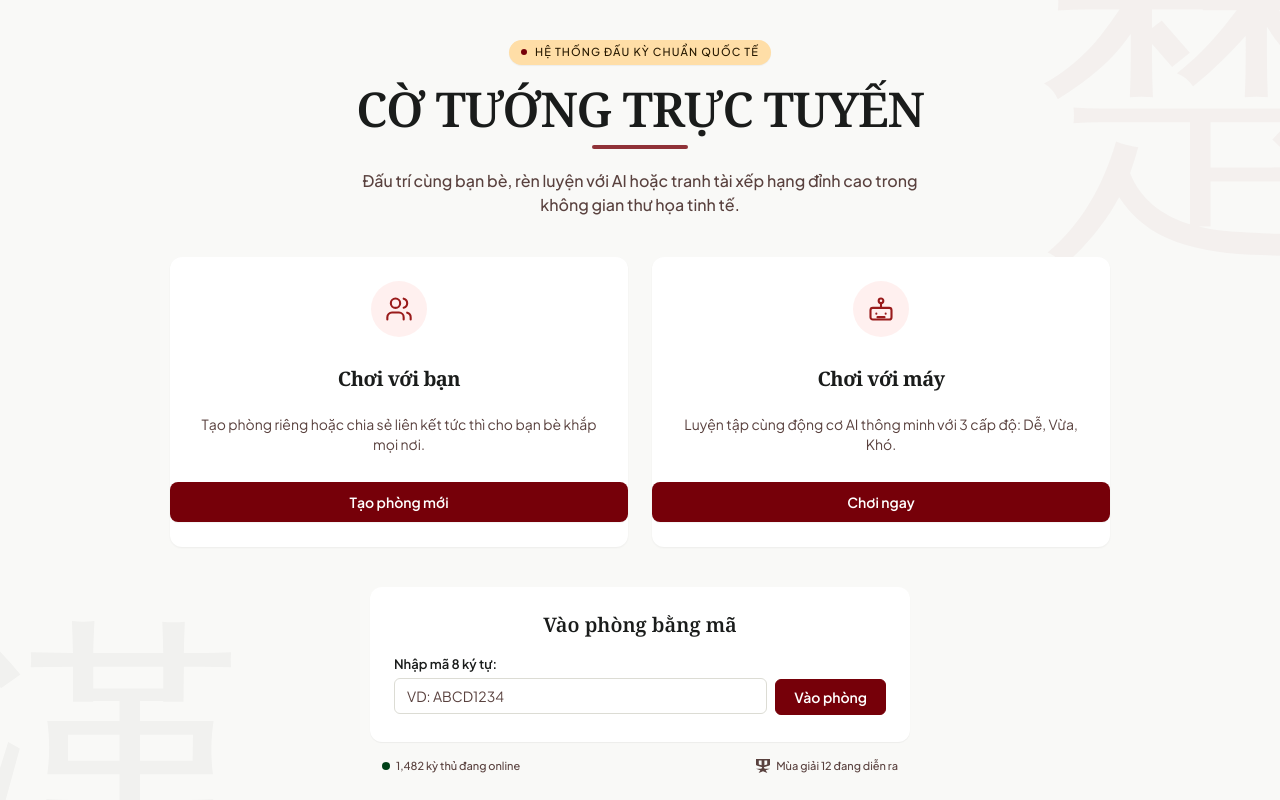
Test: HomePage › shows the join error for ABCDEFGH next to the field
In the field named "Vào phòng bằng mã": [581, 696] box [394,678,767,714], type "ABCDEFGH"
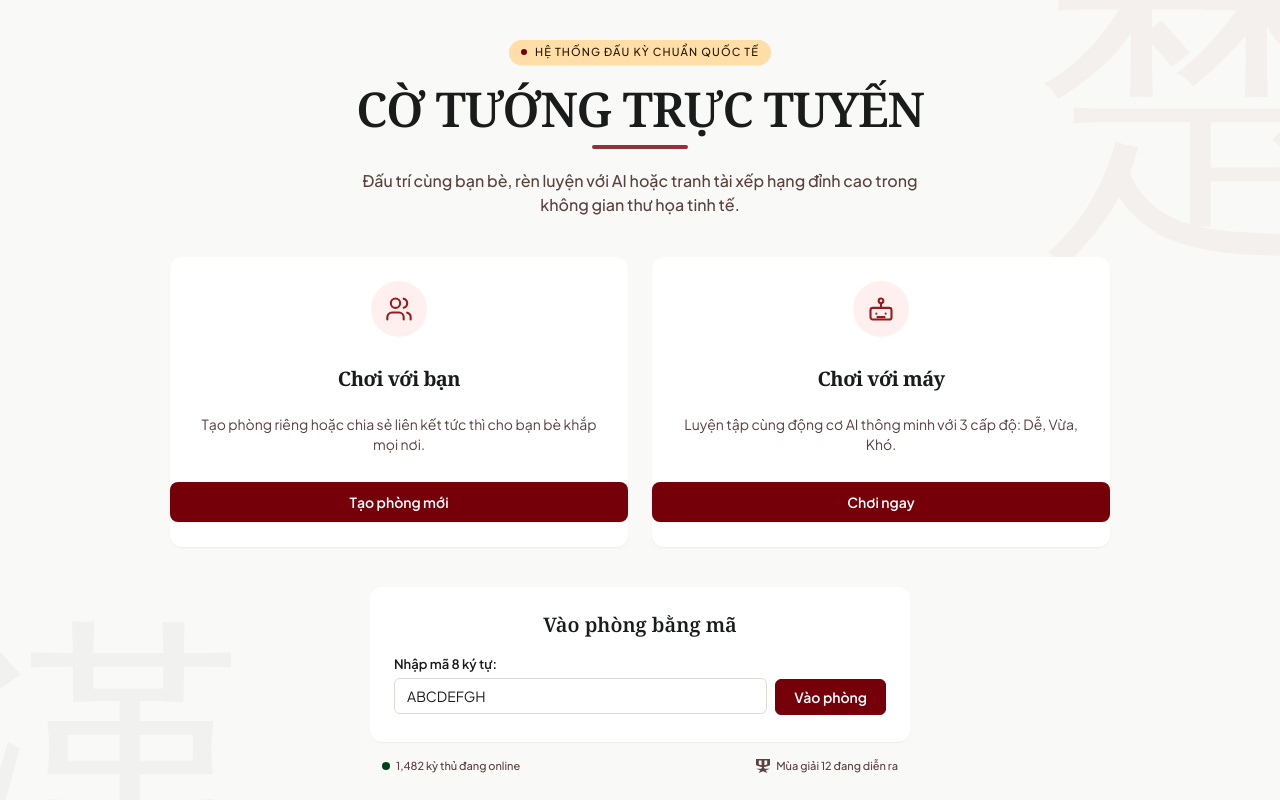
Click the button "Vào phòng": [831, 696] box [775,678,886,714]
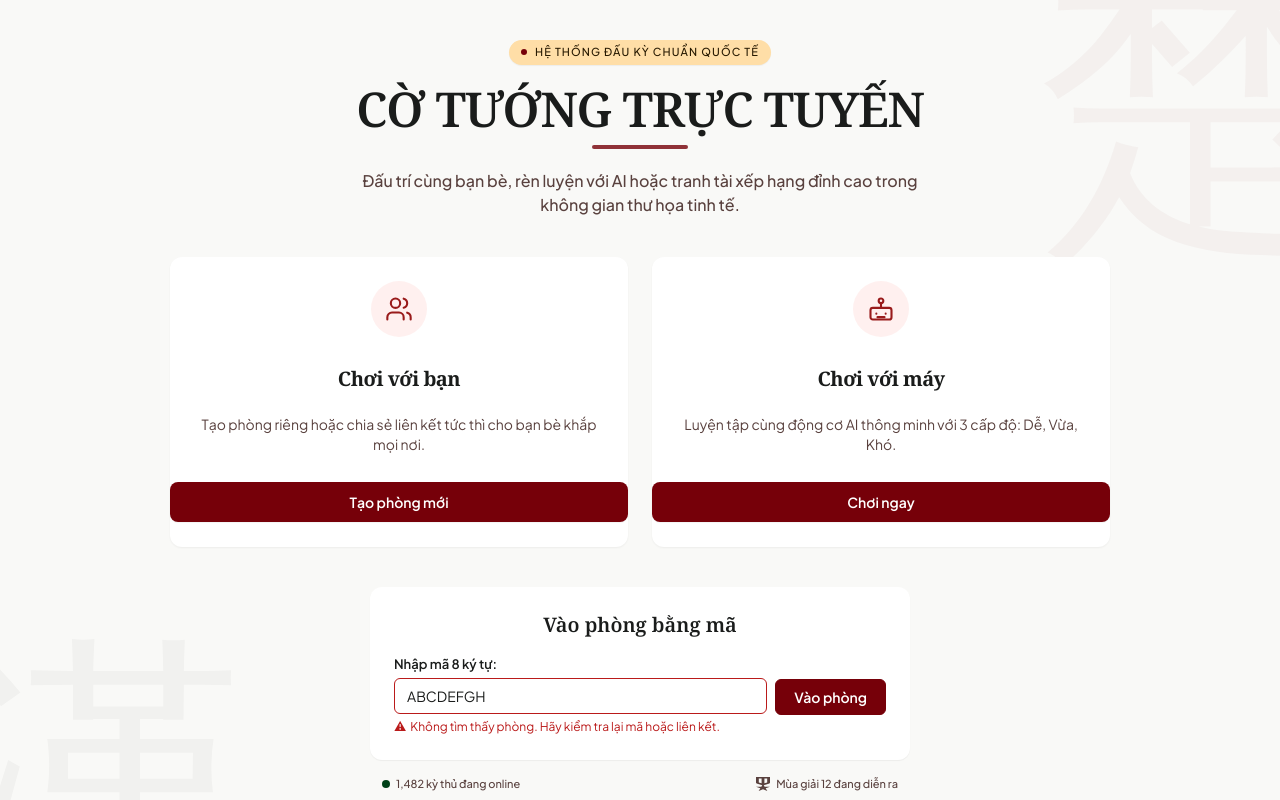
Expected: the text "Không tìm thấy phòng. Hãy kiểm tra lại mã hoặc liên kết." is shown, [410,719,720,734]
